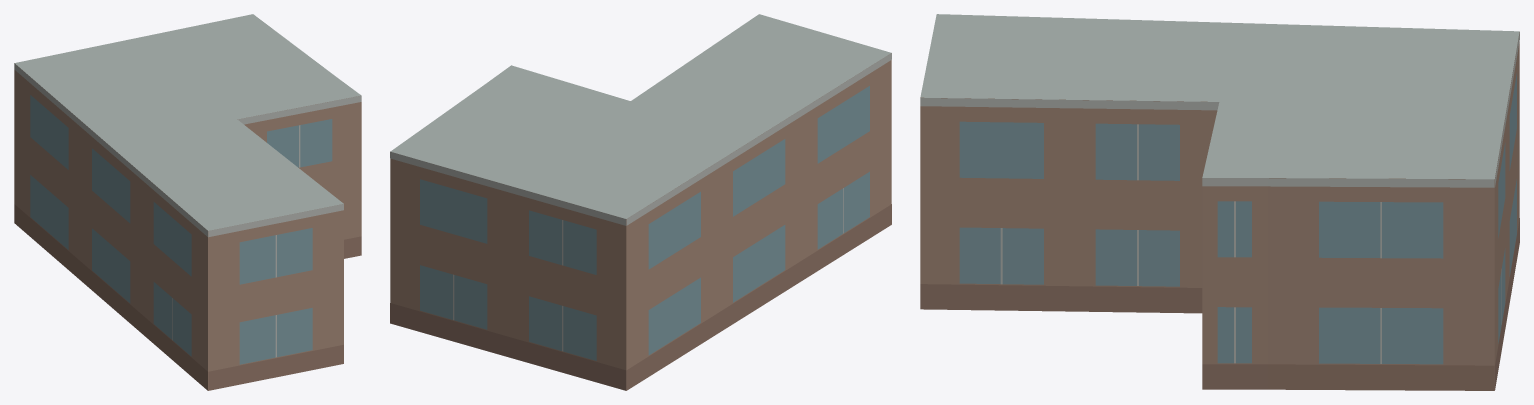
File: survey-upis-33011026.glb
3 renders of one model, left to right at view 1: azimuth 30°, elevation 25°; view 2: azimuth 150°, elevation 25°; view 3: azimuth 270°, elevation 25°, orthographic. The views are drawn at different scales.
Parts seen in each view (by area): view 1: survey-upis-33011026.tmp; view 2: survey-upis-33011026.tmp; view 3: survey-upis-33011026.tmp.
Boxes of the visible parts, box(x1,y1,x2,y2) form: survey-upis-33011026.tmp: box(14, 14, 361, 390); survey-upis-33011026.tmp: box(390, 14, 891, 390); survey-upis-33011026.tmp: box(920, 14, 1519, 390).
Size of the model in its own units: 10.23 by 6.1 by 15.67.
